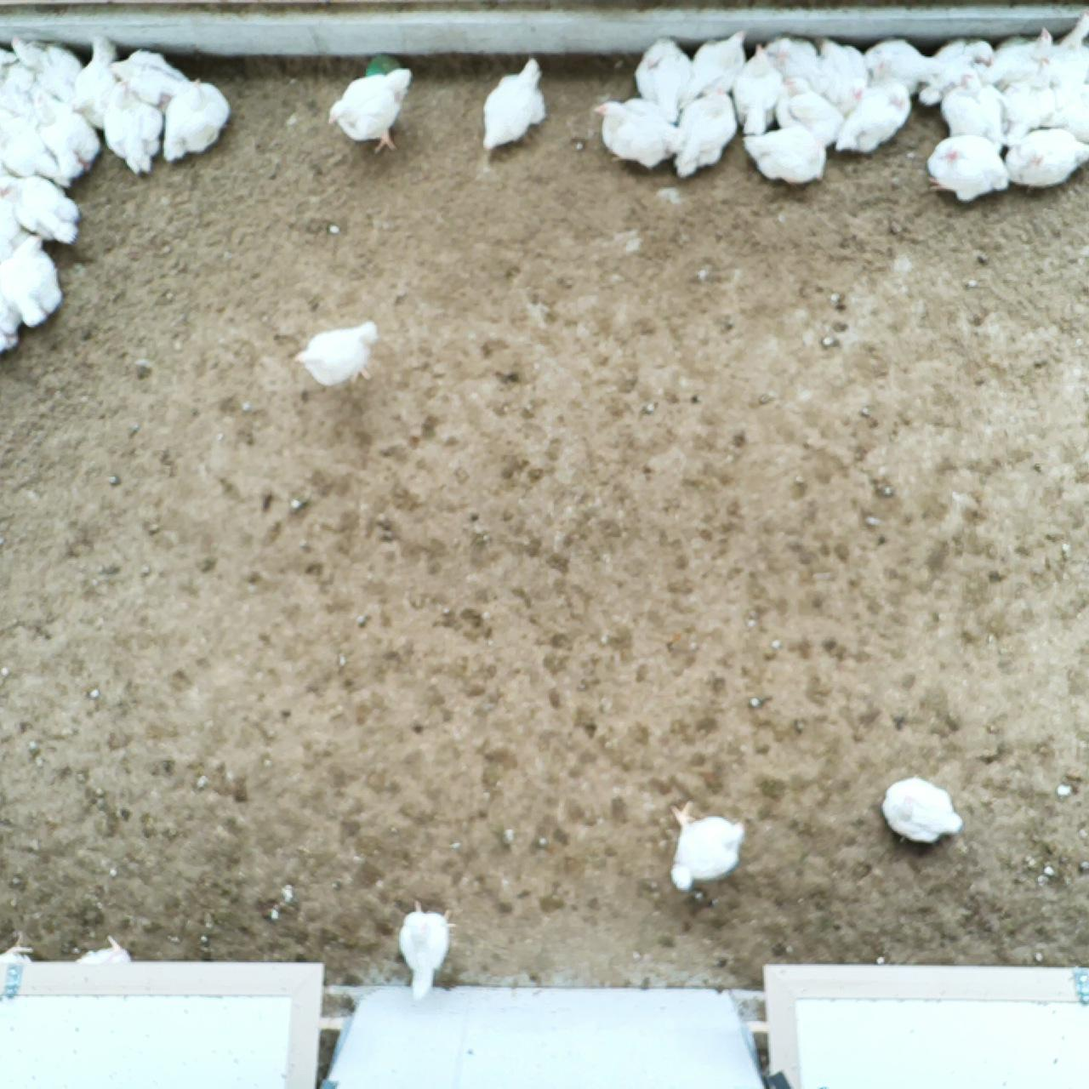chicken: (662, 796, 750, 901), (325, 64, 418, 158), (475, 54, 551, 158), (835, 68, 915, 161), (395, 894, 462, 1005), (157, 76, 235, 167), (875, 771, 967, 845), (28, 90, 102, 180), (291, 318, 381, 392), (670, 84, 735, 185), (591, 96, 675, 173), (926, 130, 1012, 205), (738, 121, 828, 192), (103, 80, 169, 175), (0, 171, 83, 246), (915, 39, 997, 113), (6, 229, 64, 331), (632, 34, 694, 127), (10, 31, 87, 104), (1004, 125, 1089, 191), (686, 26, 755, 106), (0, 107, 69, 185), (940, 69, 1009, 145), (107, 47, 194, 105), (733, 41, 786, 135), (1004, 56, 1060, 143), (74, 32, 123, 128), (809, 33, 868, 111), (775, 74, 842, 139), (986, 25, 1057, 82), (862, 35, 936, 88), (1053, 10, 1089, 82), (766, 32, 816, 81), (1054, 77, 1089, 144), (71, 931, 132, 969)
